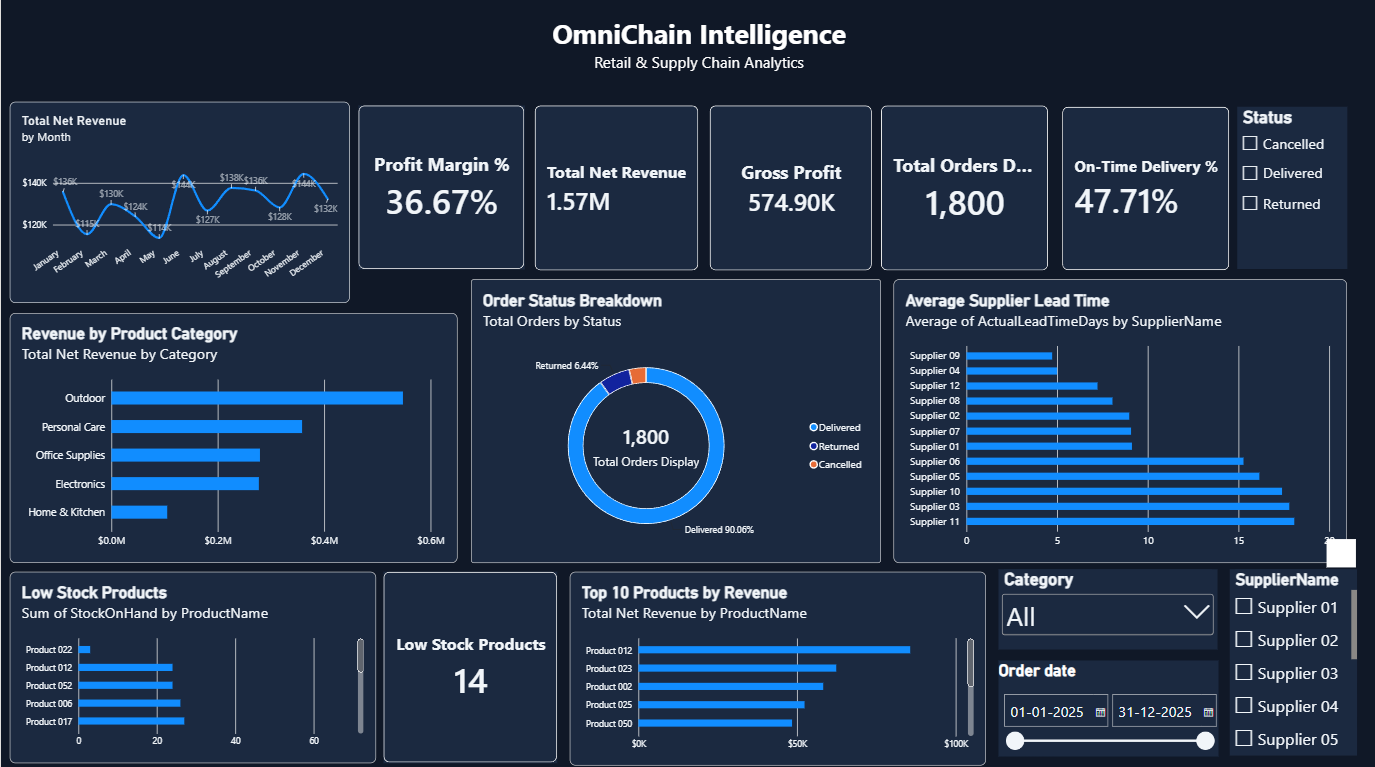

Layout of this report page (visuals, bound fields, positions):
{"tool":"powerbi","page":{"name":"Executive Overview","canvas":[1920,1080],"ordinal":0},"visuals":[{"type":"cardVisual","fields":{"Data":["orders.Total Net Revenue"]},"box":[744.8,150,228.5,230.2],"z":0},{"type":"cardVisual","fields":{"Data":["orders.Gross Profit"]},"box":[989,150,226.7,230.2],"z":1000},{"type":"cardVisual","fields":{"Data":["orders.Total Orders Display"]},"box":[1227.9,150,233.7,230.2],"z":2000},{"type":"cardVisual","fields":{"Data":["orders.Profit Margin %"]},"box":[498.8,150,232,228.5],"z":3000},{"type":"lineChart","fields":{"Category":["orders.OrderDate.Variation.Date Hierarchy.Month"],"Y":["orders.Total Net Revenue"]},"box":[12.2,144.8,474.4,280.8],"z":4000},{"type":"clusteredBarChart","title":"Revenue by Product Category","fields":{"Category":["products.Category"],"Y":["orders.Total Net Revenue"]},"box":[12.2,439.5,624.4,348.8],"z":5000},{"type":"clusteredBarChart","title":"Top 10 Products by Revenue","fields":{"Category":["products.ProductName"],"Y":["orders.Total Net Revenue"]},"box":[793.6,800.6,580.8,270.3],"z":6000},{"type":"donutChart","title":"Order Status Breakdown","fields":{"Category":["orders.Status"],"Y":["orders.Total Orders"]},"box":[655.8,392.4,572.1,395.9],"z":7000},{"type":"clusteredBarChart","title":"Low Stock Products","fields":{"Category":["products.ProductName"],"Y":["Sum(inventory.StockOnHand)"]},"box":[12.2,800.6,511,266.9],"z":8000},{"type":"clusteredBarChart","title":"Average Supplier Lead Time","fields":{"Category":["suppliers.SupplierName"],"Y":["Avg(supplier_deliveries.ActualLeadTimeDays)"]},"box":[1245.4,392.4,633.1,395.9],"z":9000},{"type":"slicer","title":"Order date","fields":{"Values":["orders.OrderDate"]},"box":[1391.9,924.4,305.2,132.6],"z":10000},{"type":"slicer","fields":{"Values":["products.Category"]},"box":[1391.9,797.1,305.2,111.6],"z":11000},{"type":"slicer","fields":{"Values":["orders.Status"]},"box":[1725,151.7,153.5,226.7],"z":12000},{"type":"slicer","fields":{"Values":["suppliers.SupplierName"]},"box":[1714.5,797.1,177.9,259.9],"z":13000},{"type":"cardVisual","title":"Products Requiring Restock","fields":{"Data":["inventory.Low Stock Products"]},"box":[533.7,800.6,242.4,266.9],"z":14000},{"type":"cardVisual","title":"On-Time Delivery Rate","fields":{"Data":["supplier_deliveries.On-Time Delivery %"]},"box":[1480.8,151.7,233.7,228.5],"z":15000},{"type":"textbox","box":[683.7,24.4,580.8,95.9],"z":16000}]}

Visuals, with their boxes in screenshot pixels (x1, y1, x2, y2), scaled from the page's 1920x1080 canvas onto the 1375x767 screenshot:
cardVisual - orders.Total Net Revenue: {"left": 533, "top": 107, "right": 697, "bottom": 270}
cardVisual - orders.Gross Profit: {"left": 708, "top": 107, "right": 871, "bottom": 270}
cardVisual - orders.Total Orders Display: {"left": 879, "top": 107, "right": 1047, "bottom": 270}
cardVisual - orders.Profit Margin %: {"left": 357, "top": 107, "right": 523, "bottom": 269}
lineChart - orders.OrderDate.Variation.Date Hierarchy.Month x orders.Total Net Revenue: {"left": 9, "top": 103, "right": 348, "bottom": 302}
"Revenue by Product Category" clusteredBarChart: {"left": 9, "top": 312, "right": 456, "bottom": 560}
"Top 10 Products by Revenue" clusteredBarChart: {"left": 568, "top": 569, "right": 984, "bottom": 761}
"Order Status Breakdown" donutChart: {"left": 470, "top": 279, "right": 879, "bottom": 560}
"Low Stock Products" clusteredBarChart: {"left": 9, "top": 569, "right": 375, "bottom": 758}
"Average Supplier Lead Time" clusteredBarChart: {"left": 892, "top": 279, "right": 1345, "bottom": 560}
"Order date" slicer: {"left": 997, "top": 656, "right": 1215, "bottom": 751}
slicer - products.Category: {"left": 997, "top": 566, "right": 1215, "bottom": 645}
slicer - orders.Status: {"left": 1235, "top": 108, "right": 1345, "bottom": 269}
slicer - suppliers.SupplierName: {"left": 1228, "top": 566, "right": 1355, "bottom": 751}
"Products Requiring Restock" cardVisual: {"left": 382, "top": 569, "right": 556, "bottom": 758}
"On-Time Delivery Rate" cardVisual: {"left": 1060, "top": 108, "right": 1228, "bottom": 270}
textbox: {"left": 490, "top": 17, "right": 906, "bottom": 85}
